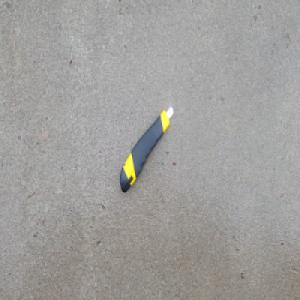Cutter: (118, 104, 175, 195)
